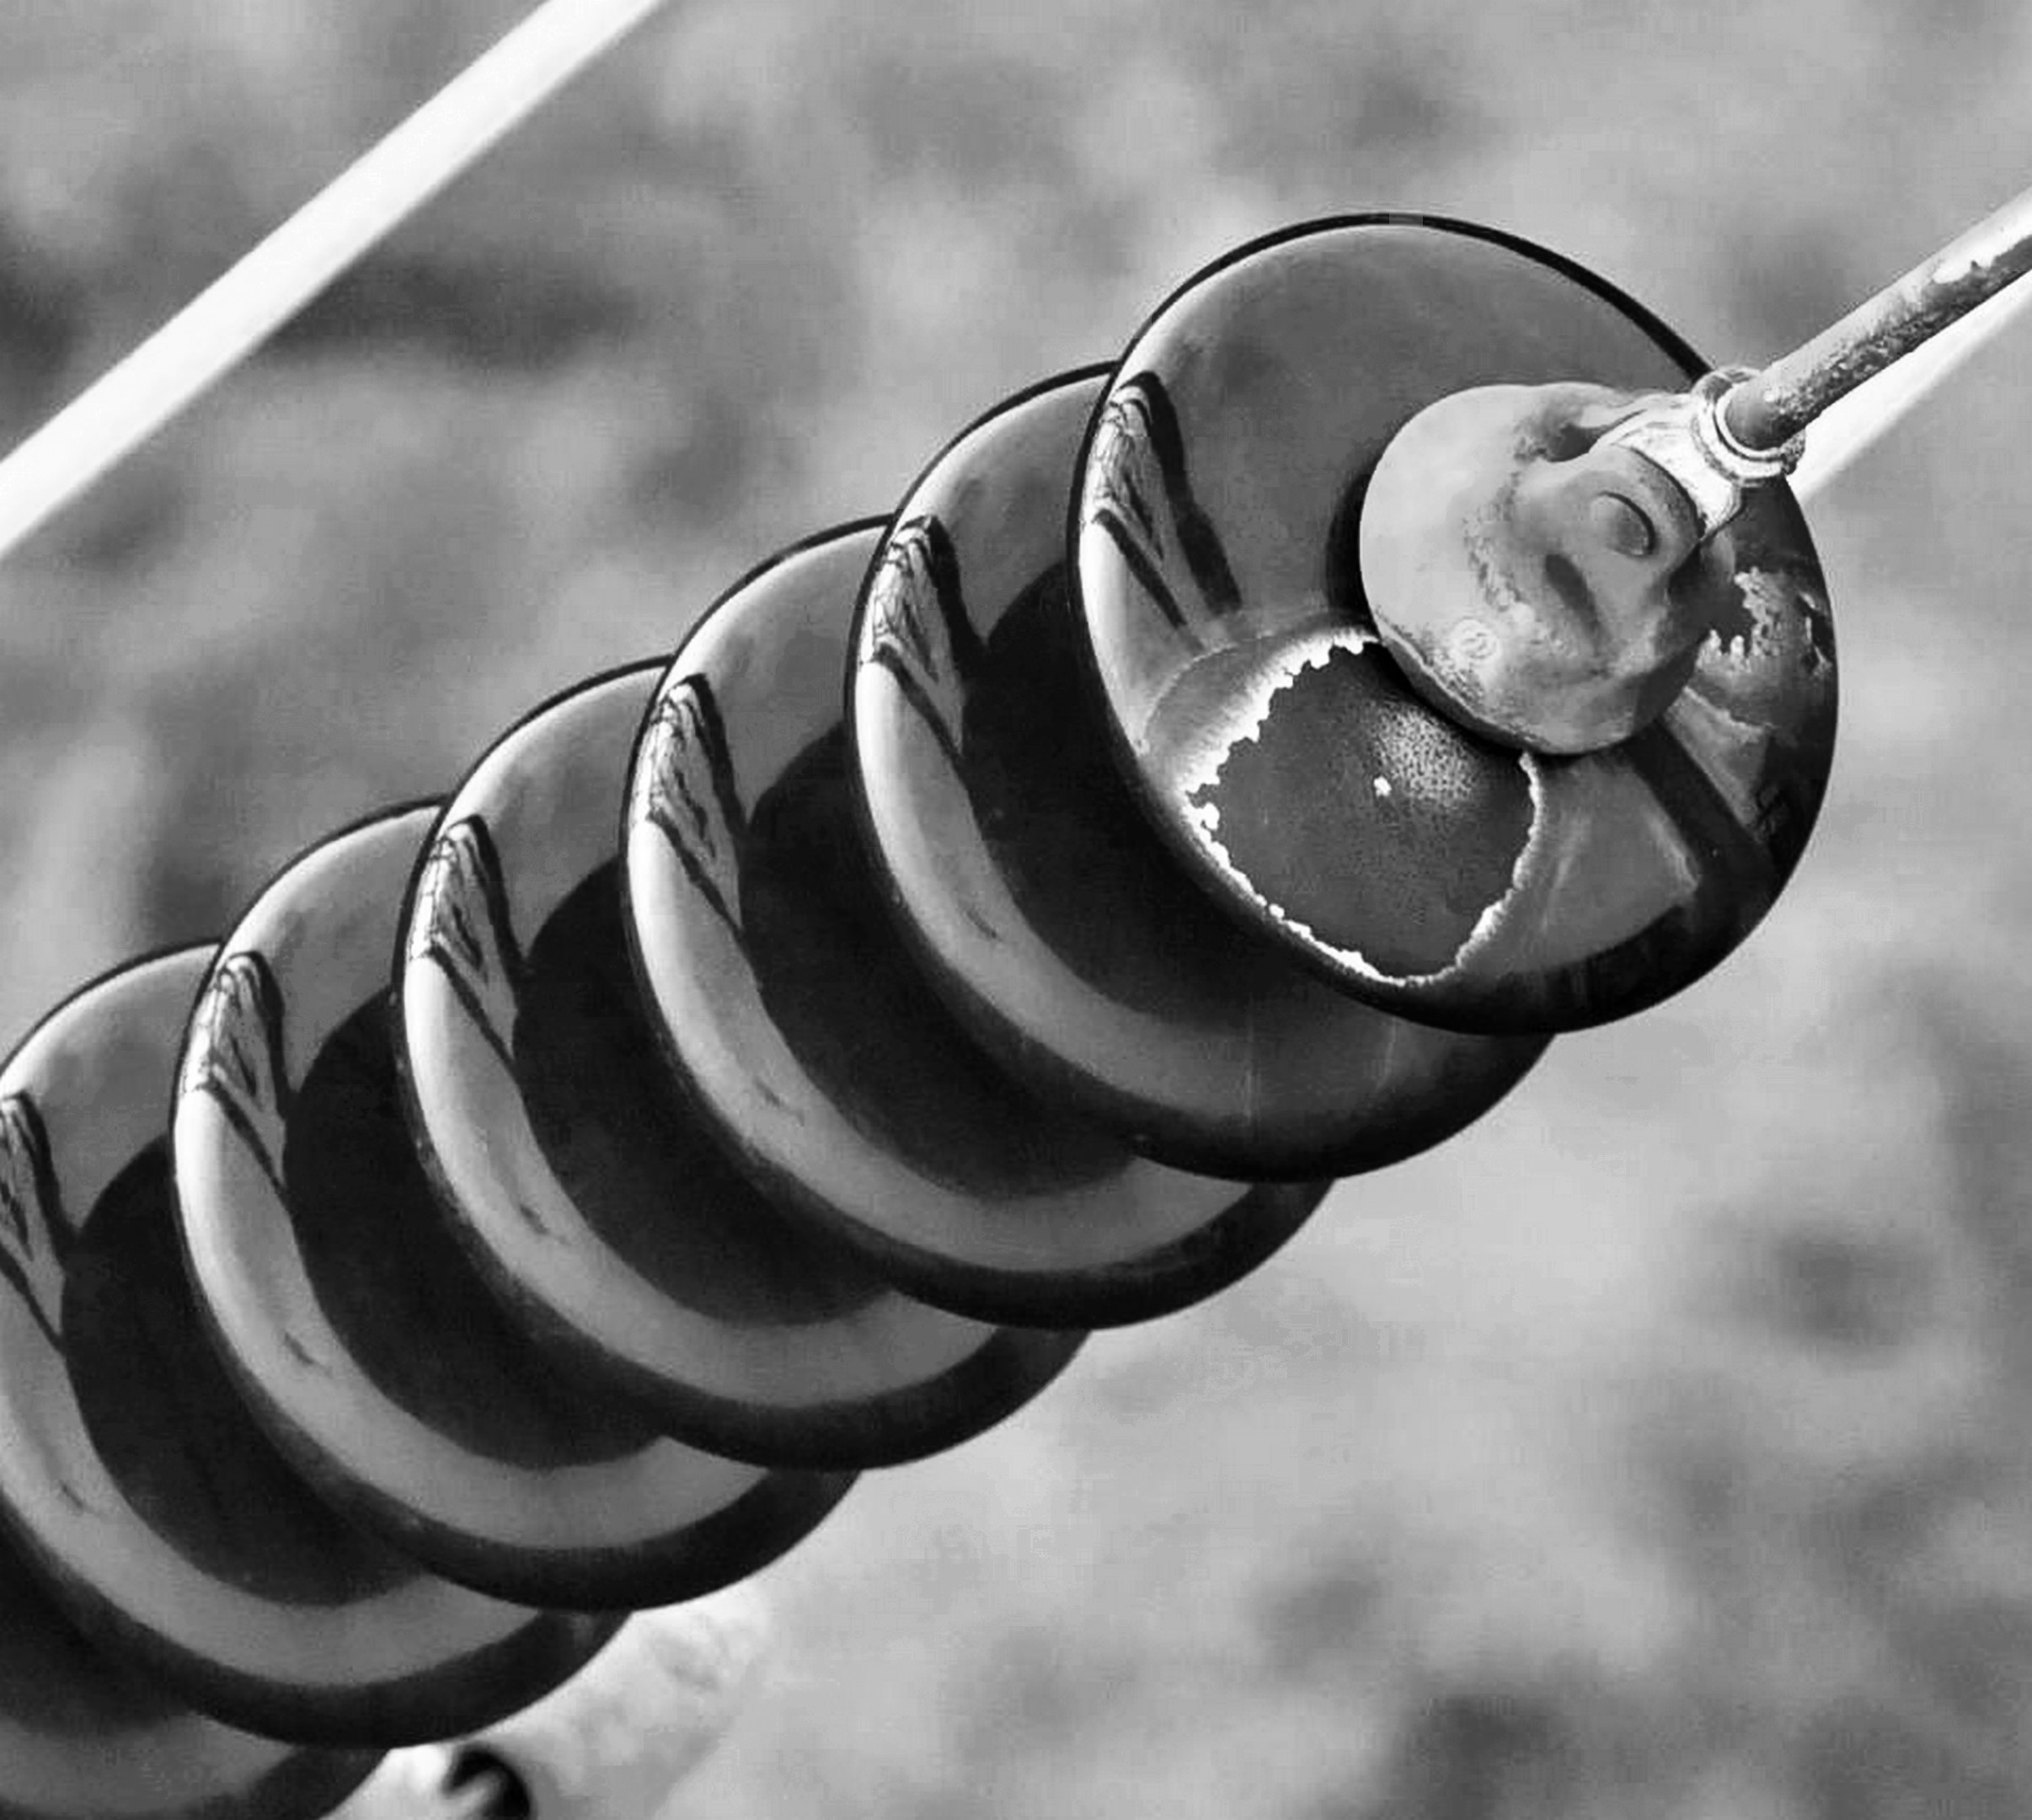Insulator flashover: (1057, 209, 1897, 1065)
